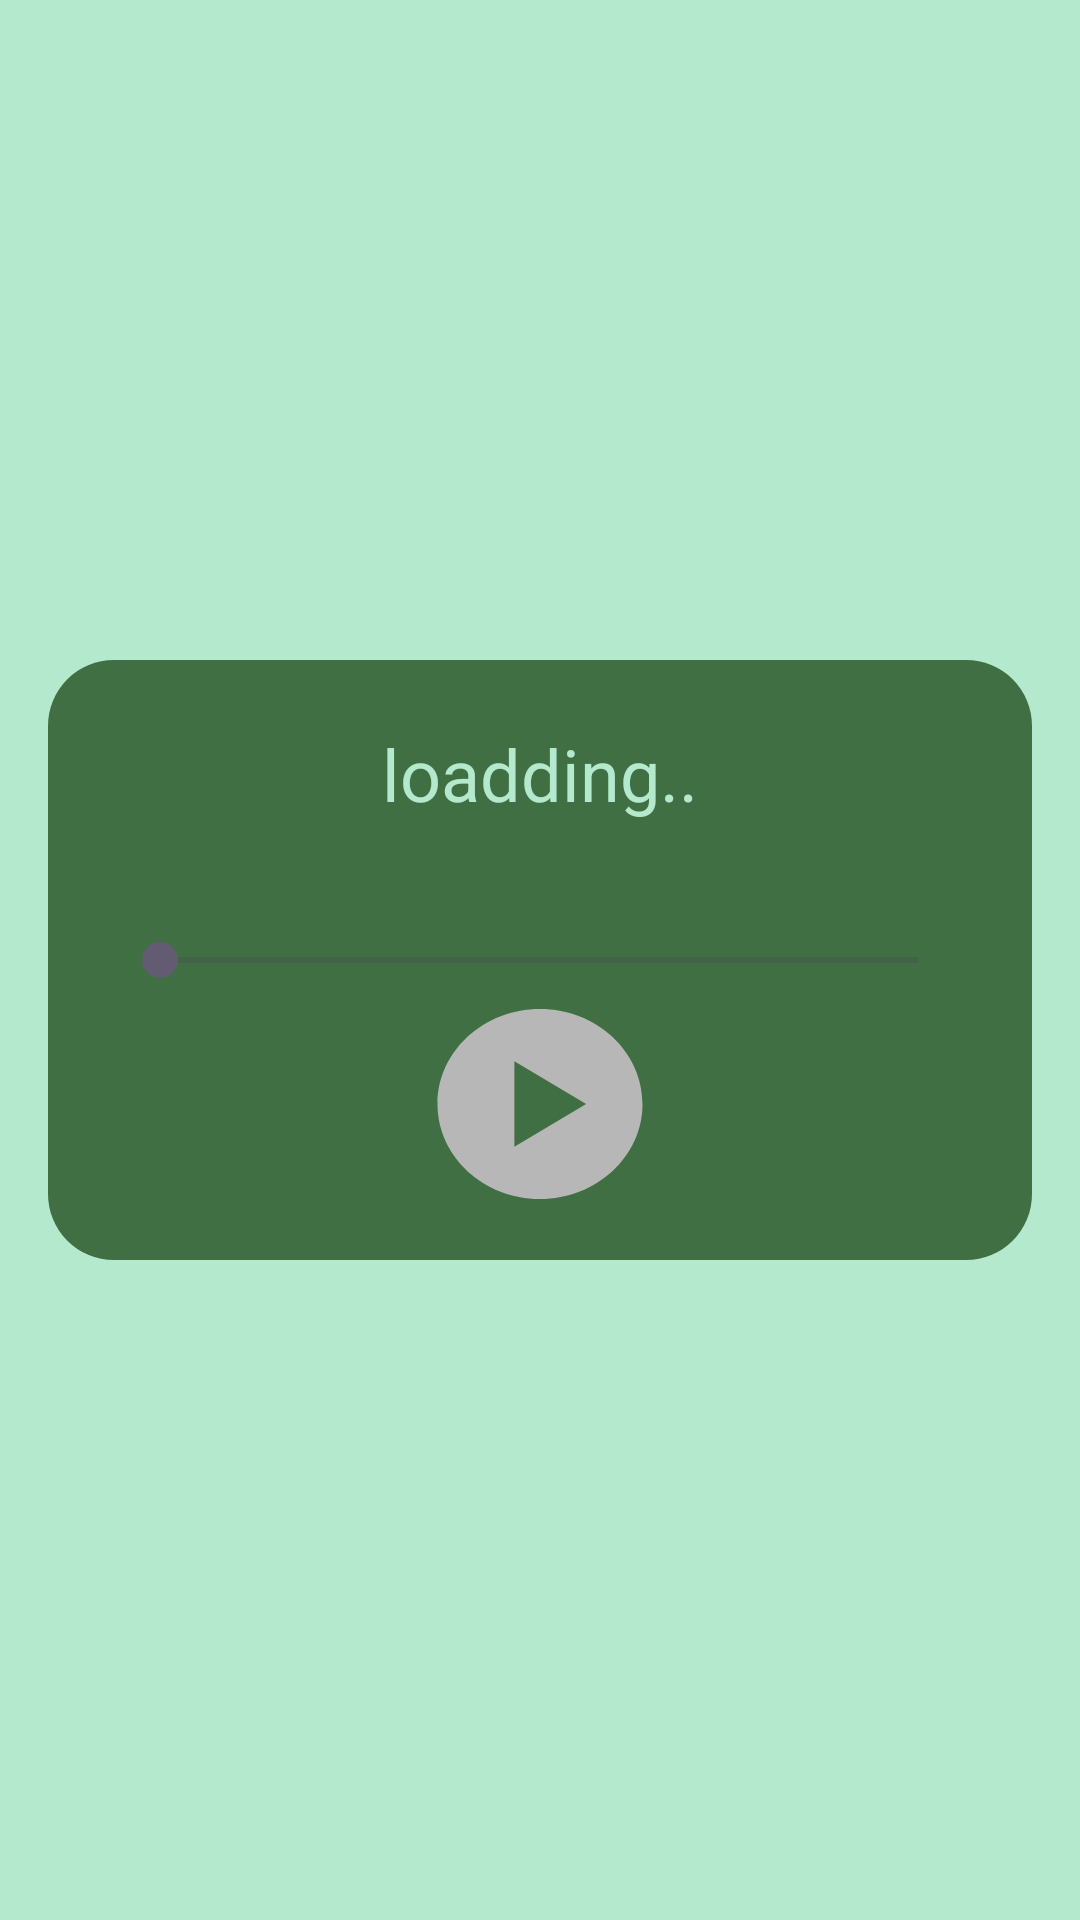

Where icons sit on this 1080*1920 app screen, as bbox=[x1, y1, x2, y2]:
play circle: bbox=[437, 1009, 643, 1199]
